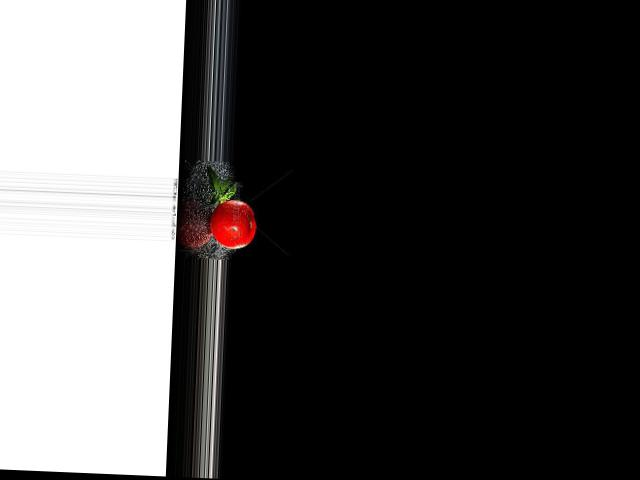tomato: (209, 199, 257, 249)
